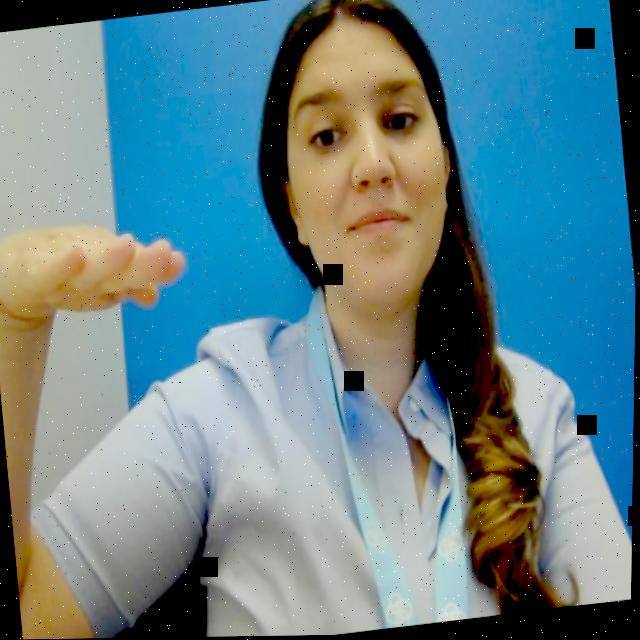Paper: (0, 194, 200, 357)
